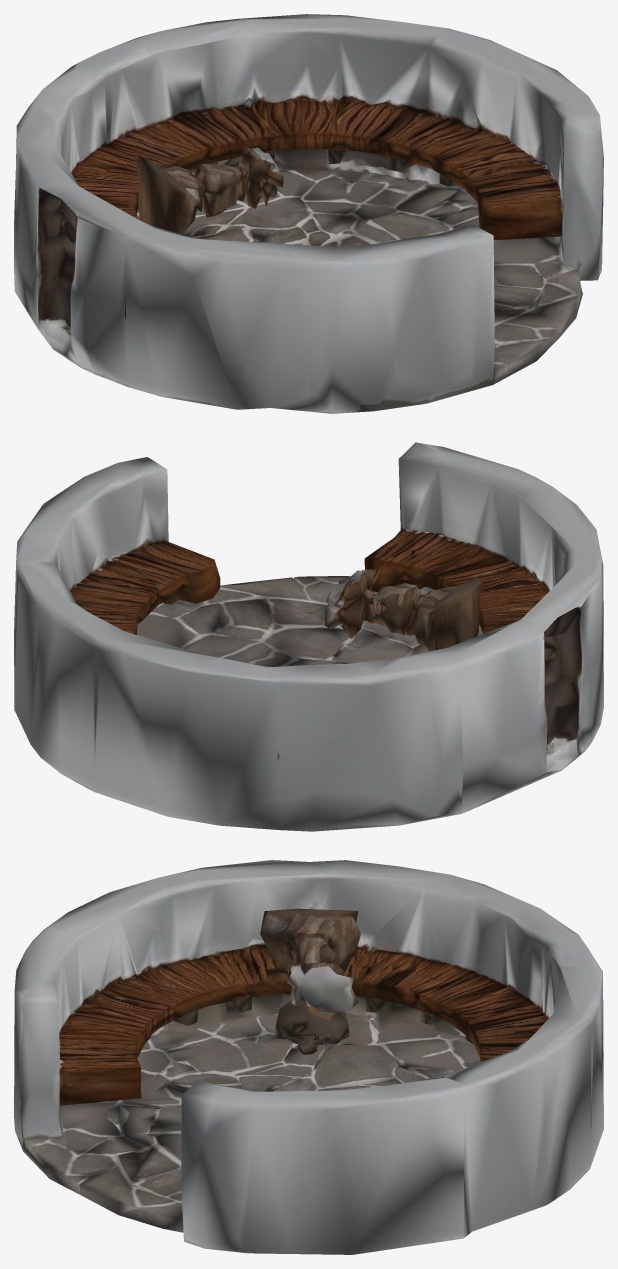
Rendered from seatbowl_lod1.glb.
3 renders of one model, top to bottom at view 1: azimuth 30°, elevation 25°; view 2: azimuth 150°, elevation 25°; view 3: azimuth 270°, elevation 25°, orthographic.
Visible parts, largest first — view 1: tripo_node_d350f1d2-0da8-4a9d-b4f4-1c8ba24df5ca; view 2: tripo_node_d350f1d2-0da8-4a9d-b4f4-1c8ba24df5ca; view 3: tripo_node_d350f1d2-0da8-4a9d-b4f4-1c8ba24df5ca.
Boxes of the visible parts, x1,y1,x2,y2 form: tripo_node_d350f1d2-0da8-4a9d-b4f4-1c8ba24df5ca: (14,14,603,413); tripo_node_d350f1d2-0da8-4a9d-b4f4-1c8ba24df5ca: (14,442,603,831); tripo_node_d350f1d2-0da8-4a9d-b4f4-1c8ba24df5ca: (14,860,603,1254).
Size of the model in its own units: 2.82 by 0.7962 by 2.82.
1 material, 1 textured.
